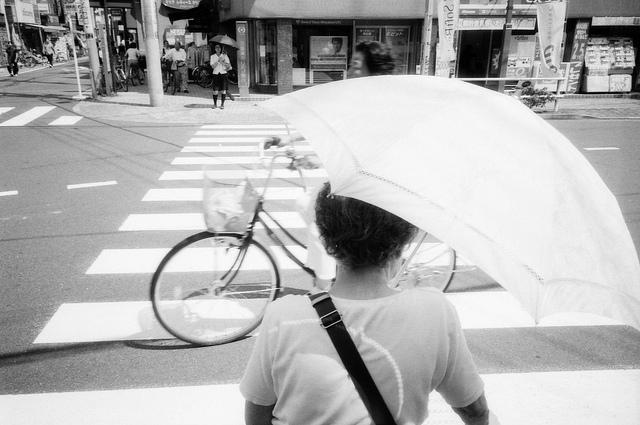bicycle: (148, 134, 454, 345), (196, 62, 238, 88), (112, 62, 128, 91), (162, 62, 175, 94), (129, 67, 145, 85), (192, 66, 204, 85)
